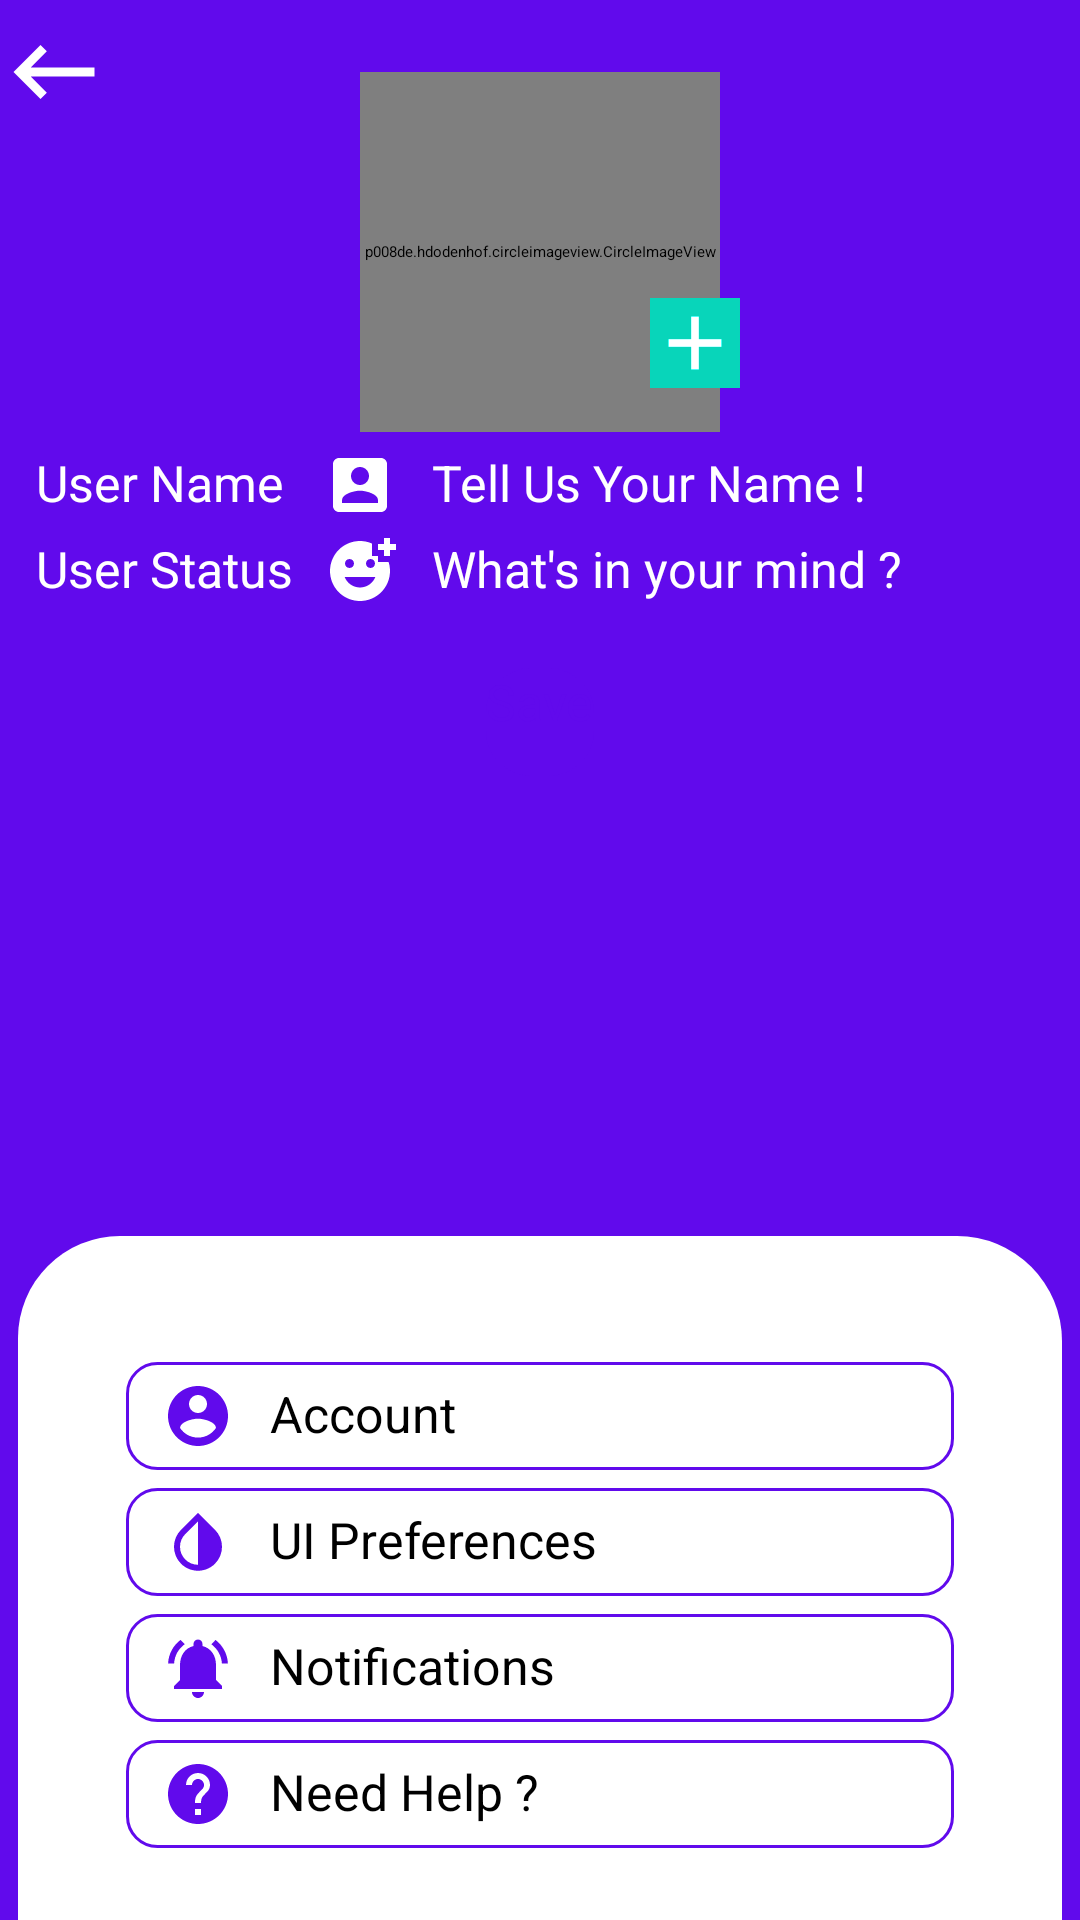

Named icons in this screenshot (1080w x 1920h) and their bounding boxes, (x1, y1, x2, y2):
add: (650, 298, 740, 388)
back arrow: (13, 45, 95, 99)
